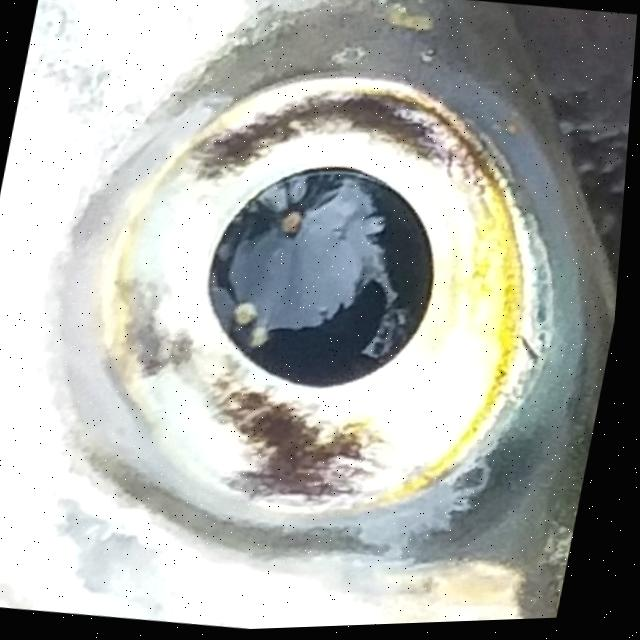Non-Fresh: (37, 31, 598, 572)
